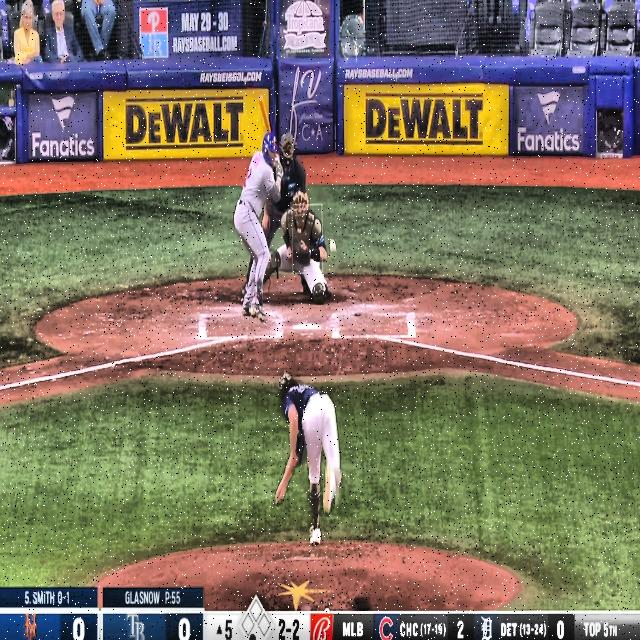baseball: (329, 237, 337, 254)
